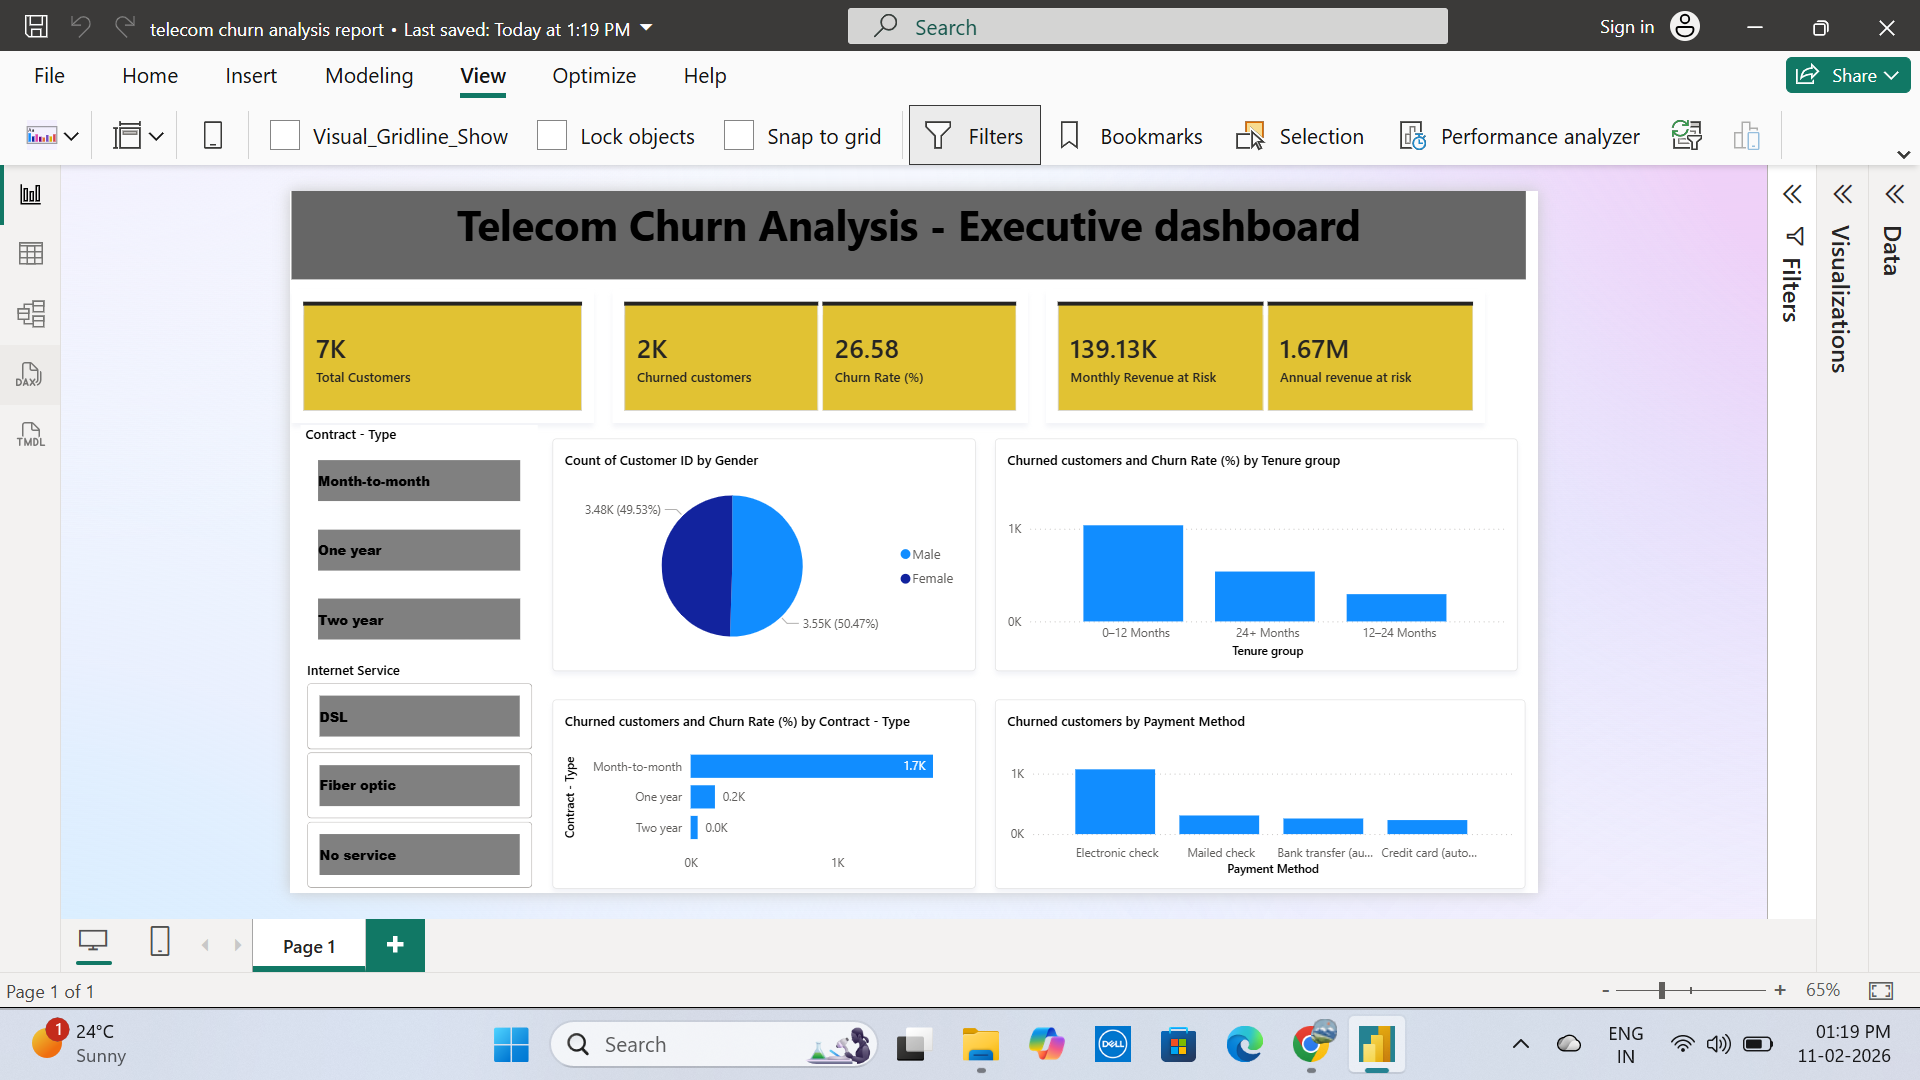

What the dashboard file says about the page in this screenshot:
{"tool":"powerbi","page":{"name":"Page 1","canvas":[1280,720],"ordinal":0},"visuals":[{"type":"cardVisual","fields":{"Data":["tele_churn_data.Total Customers"]},"box":[1.6,101.8,310.2,136.8],"z":0},{"type":"cardVisual","fields":{"Data":["tele_churn_data.Churned customers","tele_churn_data.Churn Rate (%)"]},"box":[330.8,101.8,426.3,136.8],"z":1000},{"type":"cardVisual","fields":{"Data":["tele_churn_data.Revenue at Risk","tele_churn_data.Annual revenue at risk"]},"box":[774.6,101.8,450.1,136.8],"z":2000},{"type":"clusteredBarChart","fields":{"Category":["tele_churn_data.Contract"],"Y":["tele_churn_data.Churned customers"]},"box":[268.8,521.7,434.2,194.1],"z":4000},{"type":"columnChart","fields":{"Category":["tele_churn_data.Tenure group"],"Y":["tele_churn_data.Churned customers"]},"box":[723.7,254.5,536,238.6],"z":5000},{"type":"columnChart","fields":{"Category":["tele_churn_data.Payment Method"],"Y":["tele_churn_data.Churned customers"]},"box":[723.7,521.7,544,194.1],"z":6000},{"type":"textbox","box":[1.6,0,1266.1,90.7],"z":9000},{"type":"advancedSlicerVisual","fields":{"Values":["tele_churn_data.Internet Service"]},"box":[12.7,482,241.8,238.6],"z":10000},{"type":"advancedSlicerVisual","fields":{"Values":["tele_churn_data.Contract"]},"box":[11.1,240.2,243.4,238.6],"z":11000},{"type":"pieChart","fields":{"Y":["CountNonNull(tele_churn_data.Customer ID)"],"Category":["tele_churn_data.Gender"]},"box":[268.8,254.5,434.2,238.6],"z":12000}]}

Visuals, with their boxes on the page's 1280x720 design canvas (x1, y1, x2, y2). These are canvas units, not pixel positions in the 1920x1080 screenshot, which may show the page scaled, cropped or inside an application window:
cardVisual - tele_churn_data.Total Customers: pyautogui.locateOnScreen(2, 102, 312, 239)
cardVisual - tele_churn_data.Churned customers x tele_churn_data.Churn Rate (%): pyautogui.locateOnScreen(331, 102, 757, 239)
cardVisual - tele_churn_data.Revenue at Risk x tele_churn_data.Annual revenue at risk: pyautogui.locateOnScreen(775, 102, 1225, 239)
clusteredBarChart - tele_churn_data.Contract x tele_churn_data.Churned customers: pyautogui.locateOnScreen(269, 522, 703, 716)
columnChart - tele_churn_data.Tenure group x tele_churn_data.Churned customers: pyautogui.locateOnScreen(724, 254, 1260, 493)
columnChart - tele_churn_data.Payment Method x tele_churn_data.Churned customers: pyautogui.locateOnScreen(724, 522, 1268, 716)
textbox: pyautogui.locateOnScreen(2, 0, 1268, 91)
advancedSlicerVisual - tele_churn_data.Internet Service: pyautogui.locateOnScreen(13, 482, 254, 721)
advancedSlicerVisual - tele_churn_data.Contract: pyautogui.locateOnScreen(11, 240, 254, 479)
pieChart - CountNonNull(tele_churn_data.Customer ID) x tele_churn_data.Gender: pyautogui.locateOnScreen(269, 254, 703, 493)
